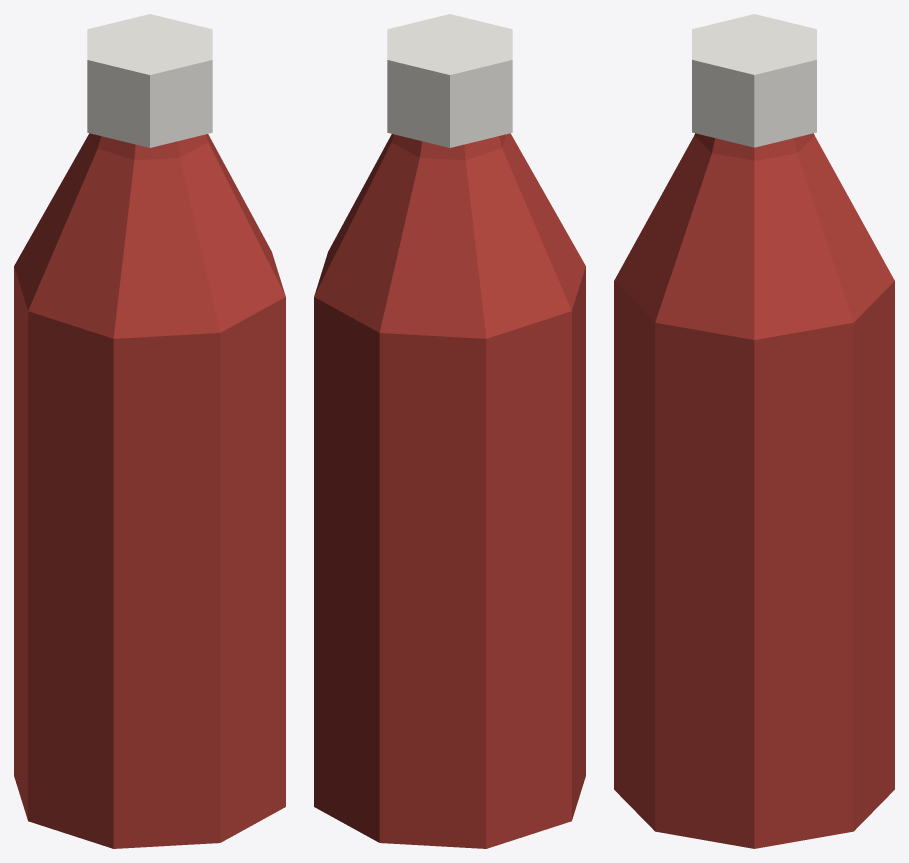
The model's file is FD_Ketchup_01.glb.
The picture shows the model from 3 angles, left to right: view 1: azimuth 30°, elevation 25°; view 2: azimuth 150°, elevation 25°; view 3: azimuth 270°, elevation 25°; orthographic projection.
Visible parts, largest first — view 1: FD_Ketchup_01; view 2: FD_Ketchup_01; view 3: FD_Ketchup_01.
Part boxes in pixels (<box>): FD_Ketchup_01: <box>14,14,285,848</box>; FD_Ketchup_01: <box>314,14,585,848</box>; FD_Ketchup_01: <box>614,14,894,848</box>.
Size of the model in its own units: 0.07 by 0.205 by 0.07.
Materials: 1 (1 with a texture image).
